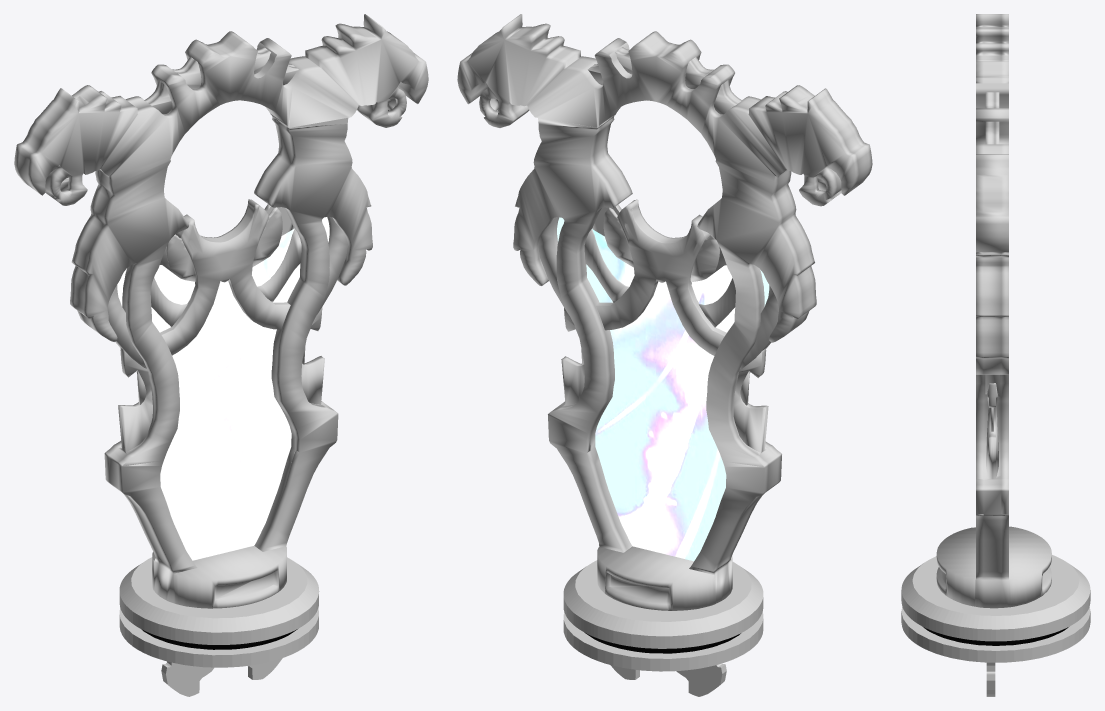
The model's file is god_of_war_bifrost.glb.
3 renders of one model, left to right at view 1: azimuth 30°, elevation 25°; view 2: azimuth 150°, elevation 25°; view 3: azimuth 270°, elevation 25°, orthographic. The views are drawn at different scales.
Parts seen in each view (by area): view 1: Plane.003_4, Plane_0, Cylinder_3, Plane.000_2; view 2: Plane.003_4, Plane_0, Cylinder_3, Plane.000_2; view 3: Plane.003_4, Cylinder_3, Plane.000_2.
Part boxes in pixels (x1,y1,x2,y2): Plane.003_4: (14,14,428,608); Plane_0: (117,217,329,560); Cylinder_3: (119,557,319,667); Plane.000_2: (161,658,282,696); Plane.003_4: (457,14,872,610); Plane_0: (557,217,769,561); Cylinder_3: (563,560,763,671); Plane.000_2: (610,663,726,696); Plane.003_4: (936,14,1051,608); Cylinder_3: (901,555,1090,662); Plane.000_2: (986,662,995,696).
Bounding box in the file's own units: 9.18 × 14.24 × 4.
3 materials, 1 textured.
